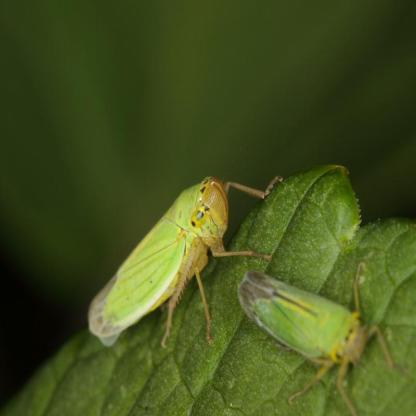Green-Leafhopper: (85, 171, 288, 357), (236, 248, 400, 415)
